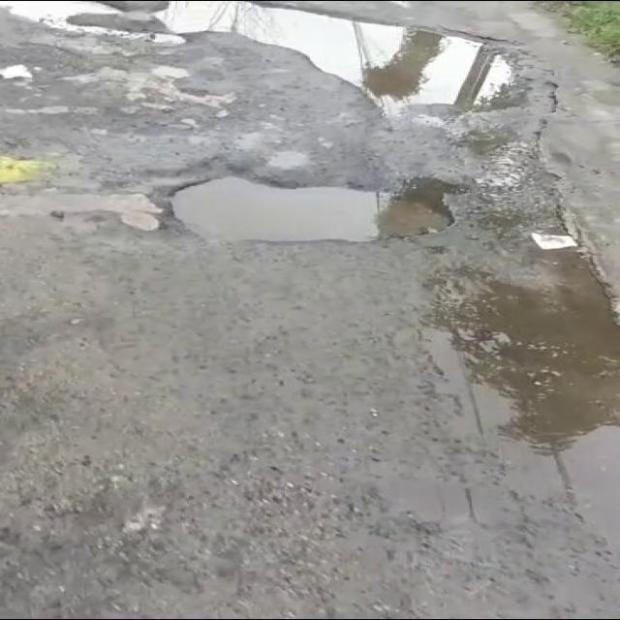lubang: (108, 3, 525, 117), (453, 239, 619, 443), (0, 3, 236, 129), (170, 176, 456, 241)
